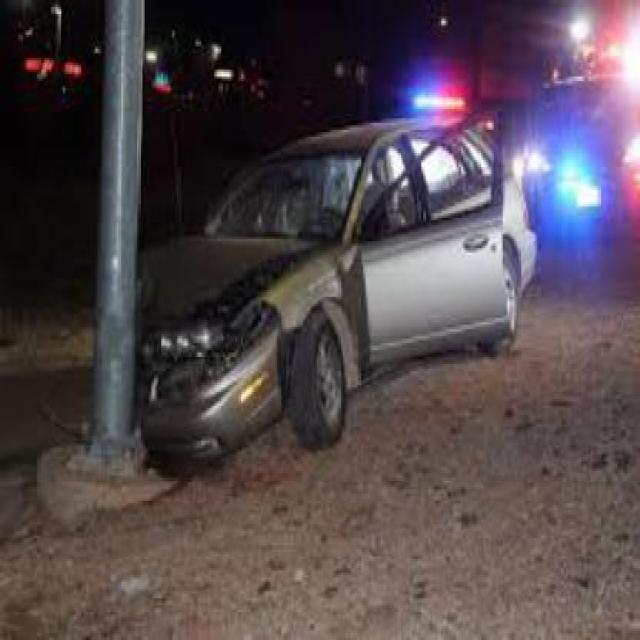accident: (88, 95, 538, 466)
